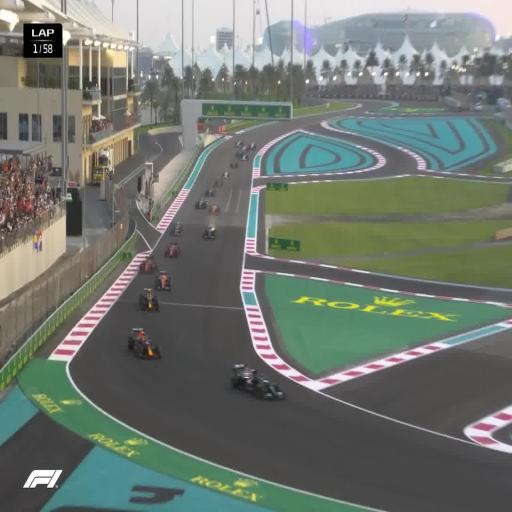f1_car: (231, 364, 285, 400), (128, 328, 161, 359), (139, 288, 159, 310), (139, 255, 157, 273), (155, 270, 171, 290), (164, 242, 180, 257), (170, 221, 183, 235), (203, 225, 216, 239), (195, 197, 208, 209), (206, 183, 216, 198), (208, 204, 220, 214), (214, 175, 223, 186), (222, 170, 230, 178), (230, 161, 238, 168), (235, 140, 243, 147), (240, 154, 248, 161), (249, 142, 255, 149)
